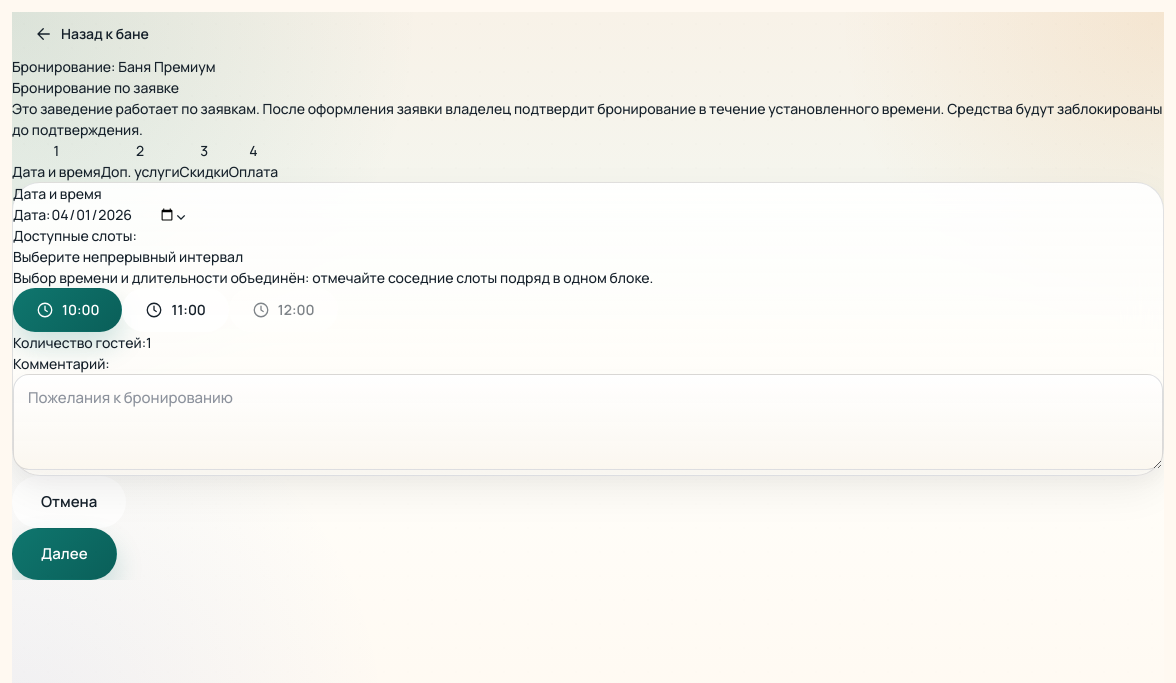
Scenario: BookingCreate › Request mode › shows hold indicator on step 4 for request mode
Click the button "Далее": [64, 554] box 12,528 -> 117,580
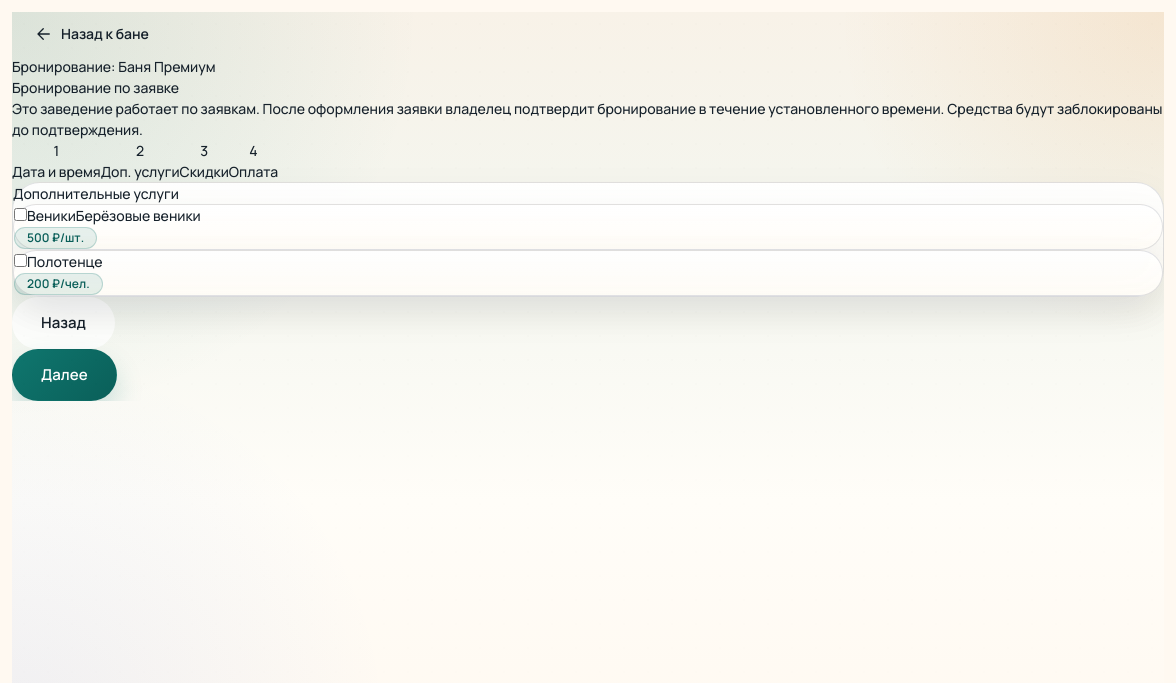
Click the button "Далее": [64, 375] box 12,349 -> 117,401
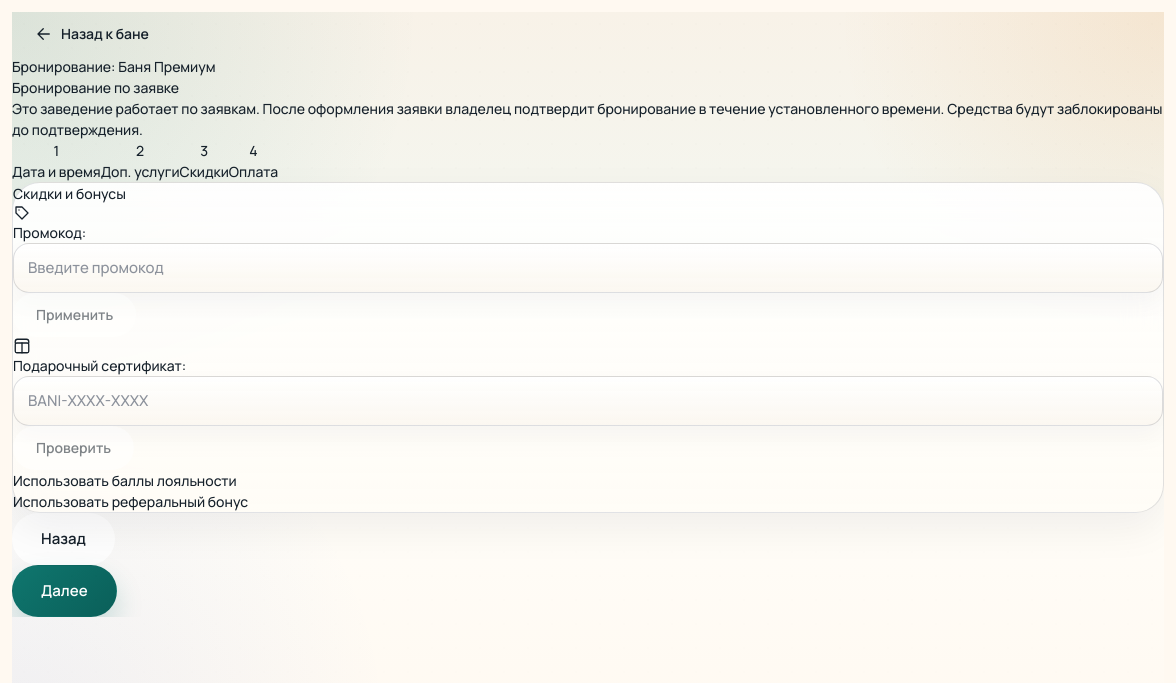
Click the button "Далее": [64, 591] box 12,565 -> 117,617
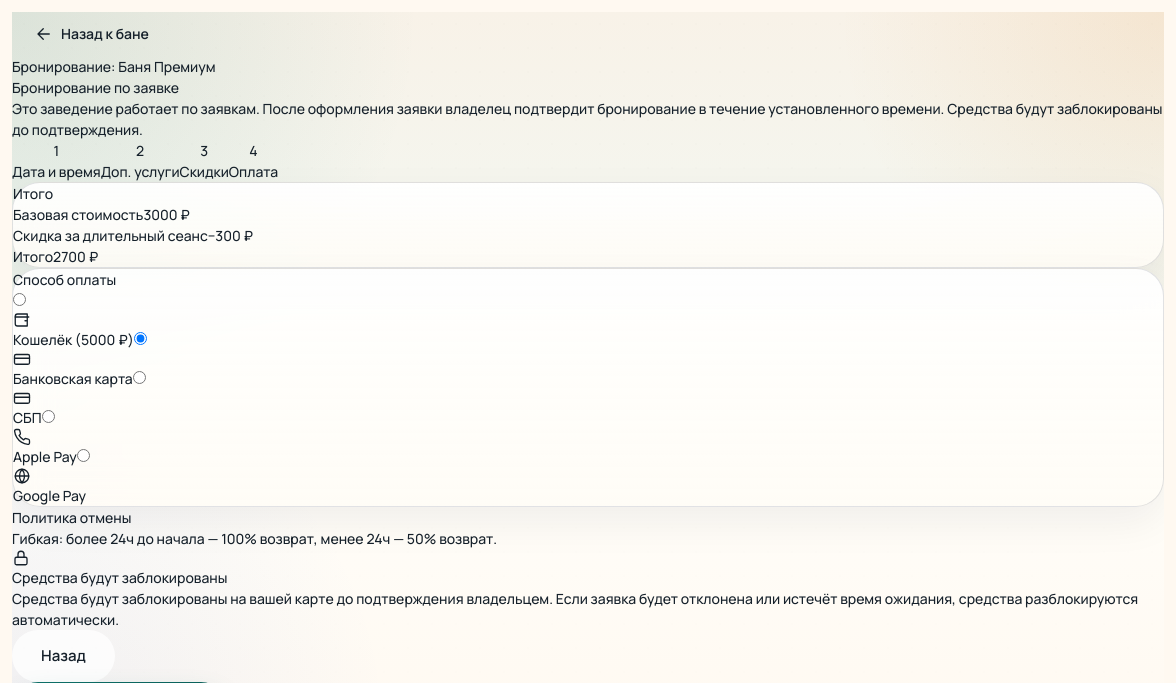
Expected: the message with test id "hold-indicator" is shown, 12,549 -> 1164,630
Expected: the text "Средства будут заблокированы" is shown, 12,568 -> 227,587
